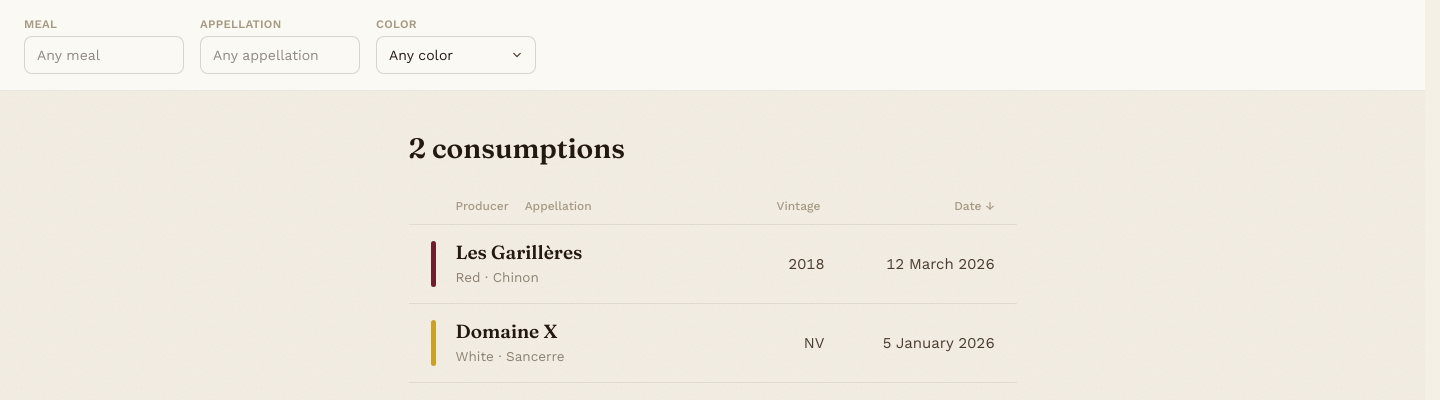
Test case: ConsumptionHistoryView sort › toggles direction when clicking the already-active column header
The image size is (1440, 400).
Click the button with test id "sort-header-date".
click(920, 206)  # box [844,198,994,214]
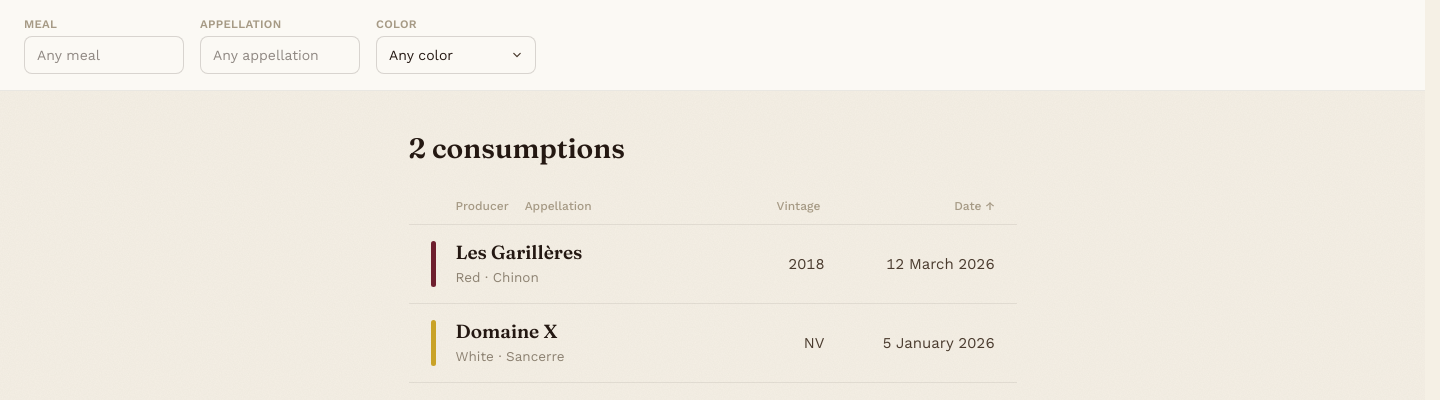
Expected: the button with test id "sort-header-date" shows "↑", [844,198,994,214]
